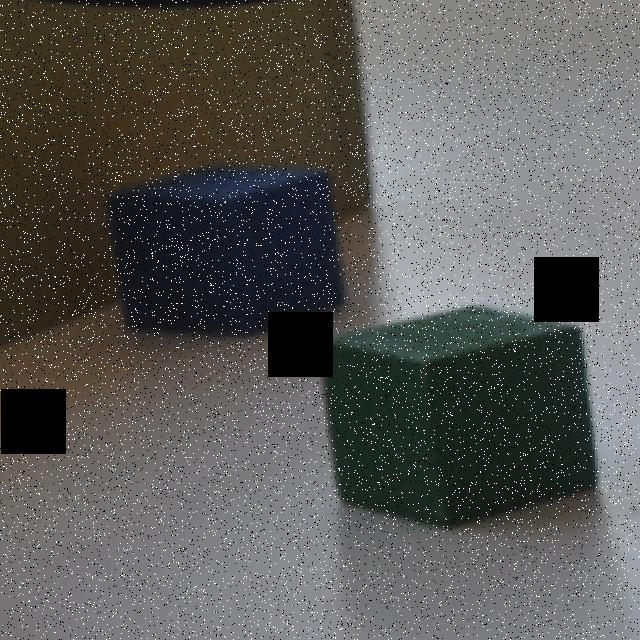bluecube: (107, 161, 345, 340)
green cube: (317, 304, 602, 532)
